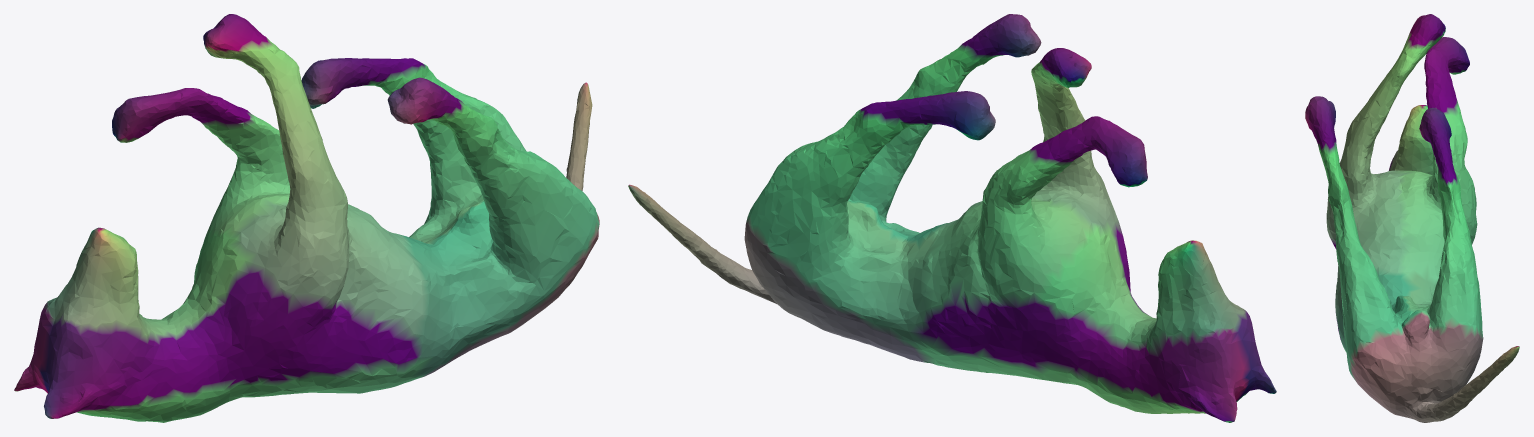
The model's file is dog2-7.off.obj.
3 renders of one model, left to right at view 1: azimuth 30°, elevation 25°; view 2: azimuth 150°, elevation 25°; view 3: azimuth 270°, elevation 25°, orthographic. The views are drawn at different scales.
Size of the model in its own units: 1.59 by 0.9361 by 0.5849.
